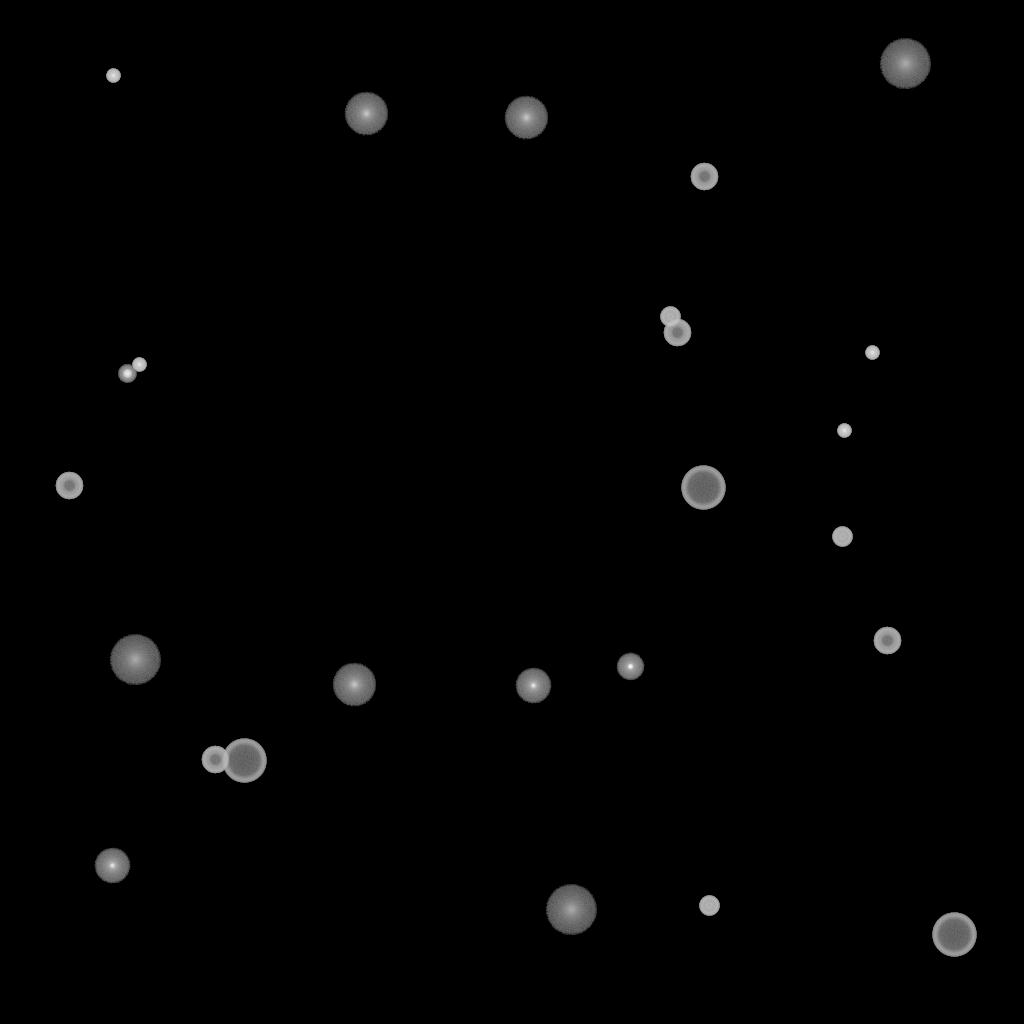depth:-10: (616, 653, 644, 681)
depth:-20: (118, 365, 136, 383)
depth:-30: (132, 358, 146, 372), (106, 69, 120, 83), (837, 424, 851, 438), (865, 346, 879, 360)
depth:-40: (699, 896, 719, 916), (832, 527, 852, 547), (660, 307, 680, 327)
depth:-50: (873, 627, 901, 655), (690, 163, 718, 191), (201, 746, 229, 774), (663, 319, 691, 347), (55, 472, 83, 500)
depth:-70: (681, 466, 725, 510), (222, 739, 266, 783), (932, 913, 976, 957)
depth:0: (94, 848, 130, 884), (515, 668, 551, 704)
depth:10: (332, 663, 376, 707), (504, 96, 548, 140), (344, 92, 388, 136)
depth:20: (879, 39, 931, 89), (545, 885, 597, 935), (109, 635, 161, 685)
